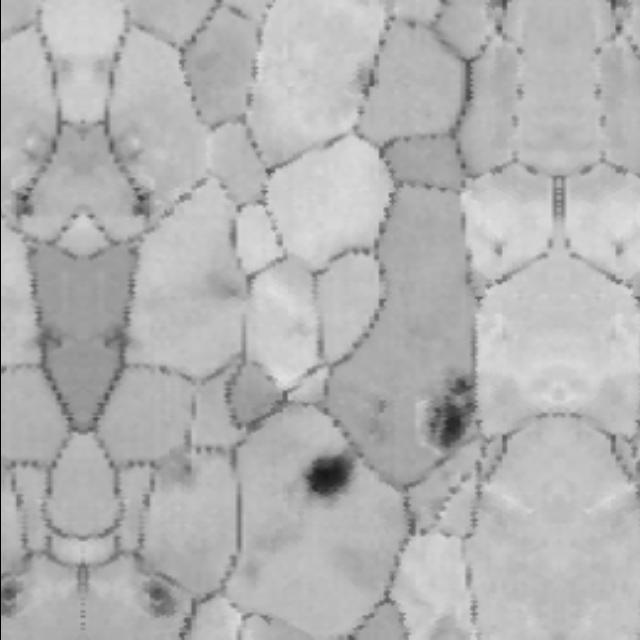good_void: (427, 369, 476, 450), (136, 568, 182, 624), (304, 451, 357, 495), (340, 56, 388, 100), (92, 307, 126, 361), (36, 307, 70, 361), (0, 568, 26, 622), (119, 180, 150, 221), (12, 180, 43, 221), (478, 231, 510, 269), (606, 231, 638, 269), (169, 463, 199, 480), (371, 393, 390, 417)
